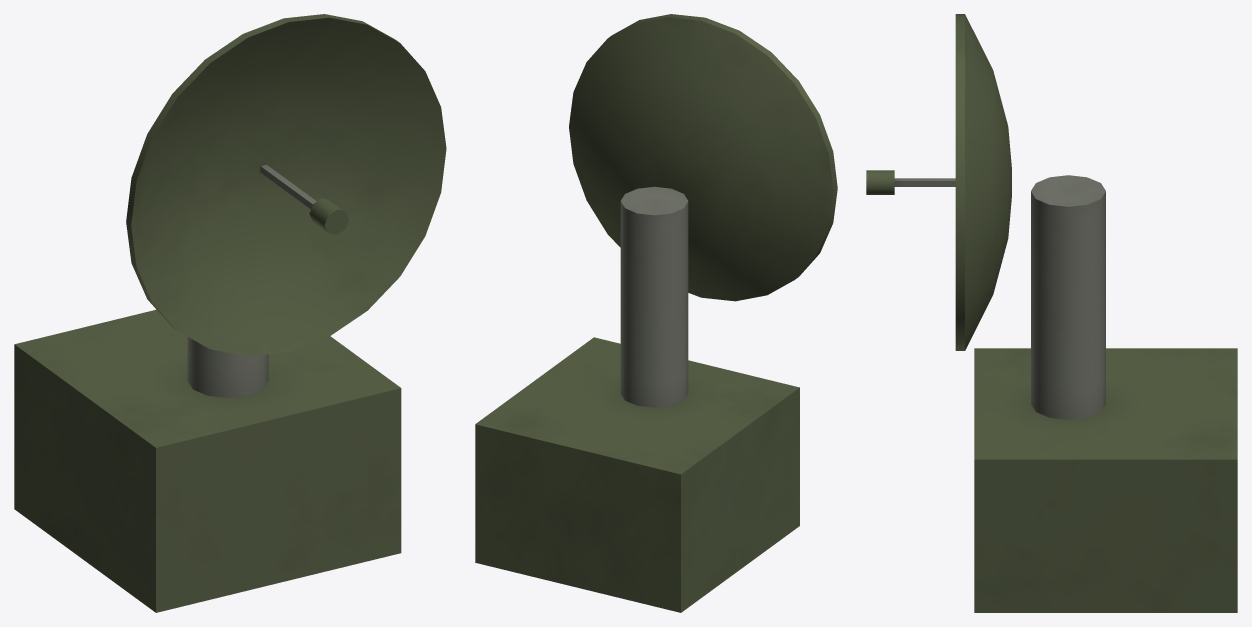
The model's file is military-radar.fbx.
The picture shows the model from 3 angles, left to right: view 1: azimuth 30°, elevation 25°; view 2: azimuth 150°, elevation 25°; view 3: azimuth 270°, elevation 25°; orthographic projection. The views are drawn at different scales.
Parts seen in each view (by area): view 1: military-radar; view 2: military-radar; view 3: military-radar.
Boxes of the visible parts, box(x1,y1,x2,y2) form: military-radar: box(14, 14, 446, 612); military-radar: box(475, 14, 837, 612); military-radar: box(866, 14, 1237, 612).
Size of the model in its own units: 18 by 31 by 19.75.
1 material, 1 textured.
